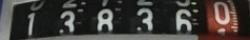digits: (172, 8, 192, 38), (132, 8, 153, 34), (96, 8, 114, 35), (58, 9, 74, 36), (213, 1, 230, 26), (24, 11, 36, 38)
